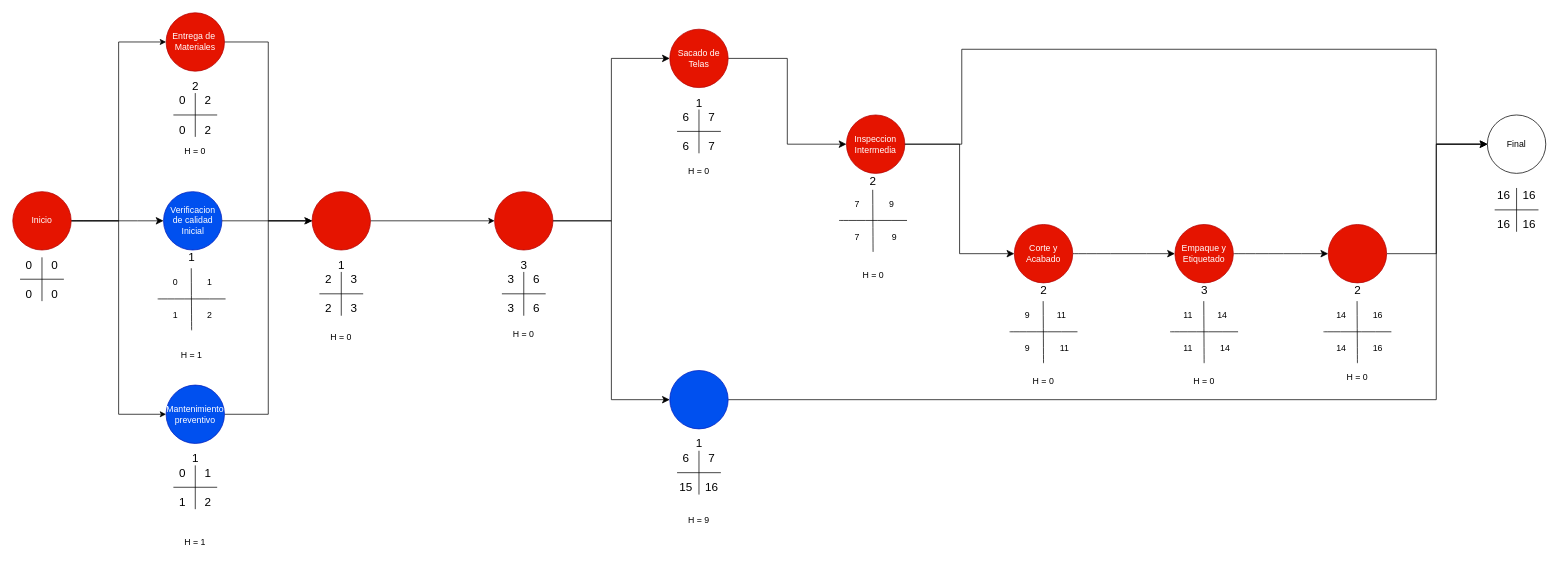
This 1559x566 diagram has some shape labels left out. The shapes that lost their labels are listed below. From the top down, each one's centre as x and y in pixels, then its label:
the point at 340,220: Preparacion de Maquinas (setup)
the point at 523,220: Teñido / Coloracion
the point at 1357,253: Almacen / Deposito
the point at 698,399: Control de Temperatura
